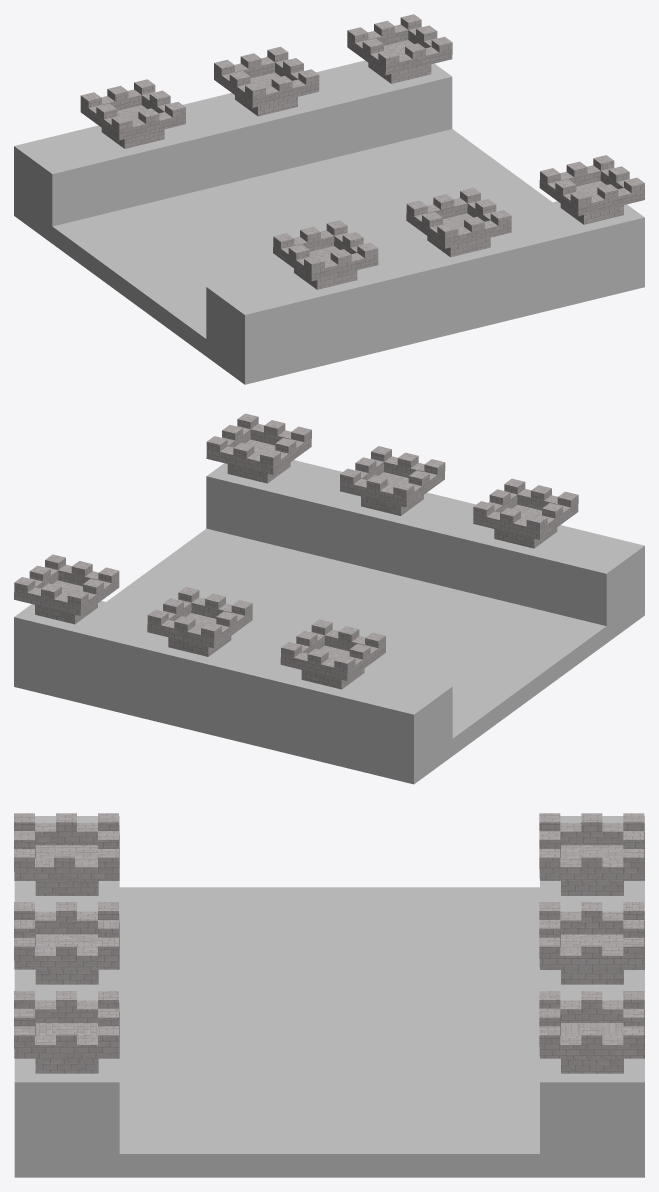
Rendered from Castle Trail(T).fbx.
3 renders of one model, top to bottom at view 1: azimuth 30°, elevation 25°; view 2: azimuth 150°, elevation 25°; view 3: azimuth 270°, elevation 25°, orthographic. The views are drawn at different scales.
Parts seen in each view (by area): view 1: Castle Mid Trail; view 2: Castle Mid Trail; view 3: Castle Mid Trail.
Part boxes in pixels (<box>): Castle Mid Trail: <box>14,14,644,384</box>; Castle Mid Trail: <box>14,413,644,784</box>; Castle Mid Trail: <box>14,813,644,1177</box>.
Size of the model in its own units: 1200 by 299 by 1201.
